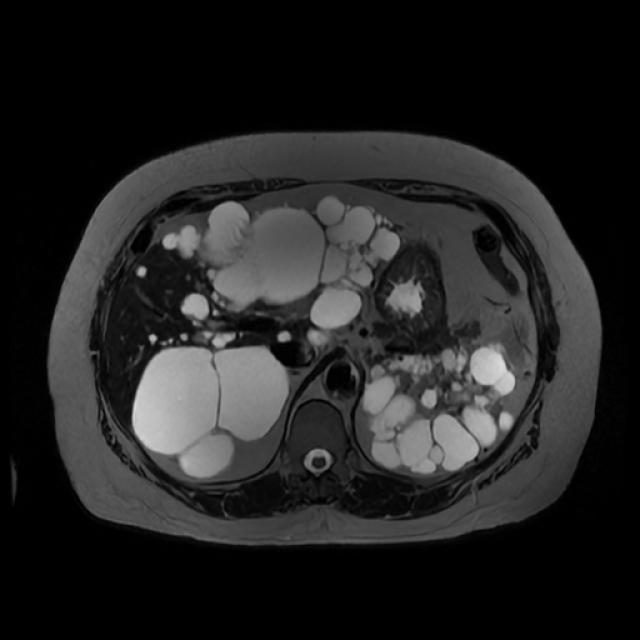sag: (130, 346, 290, 478)
sol: (362, 342, 519, 474)
